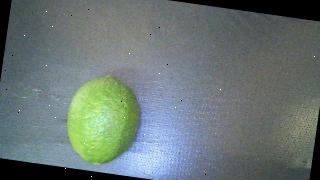EXPORTACION: (61, 71, 144, 170)
